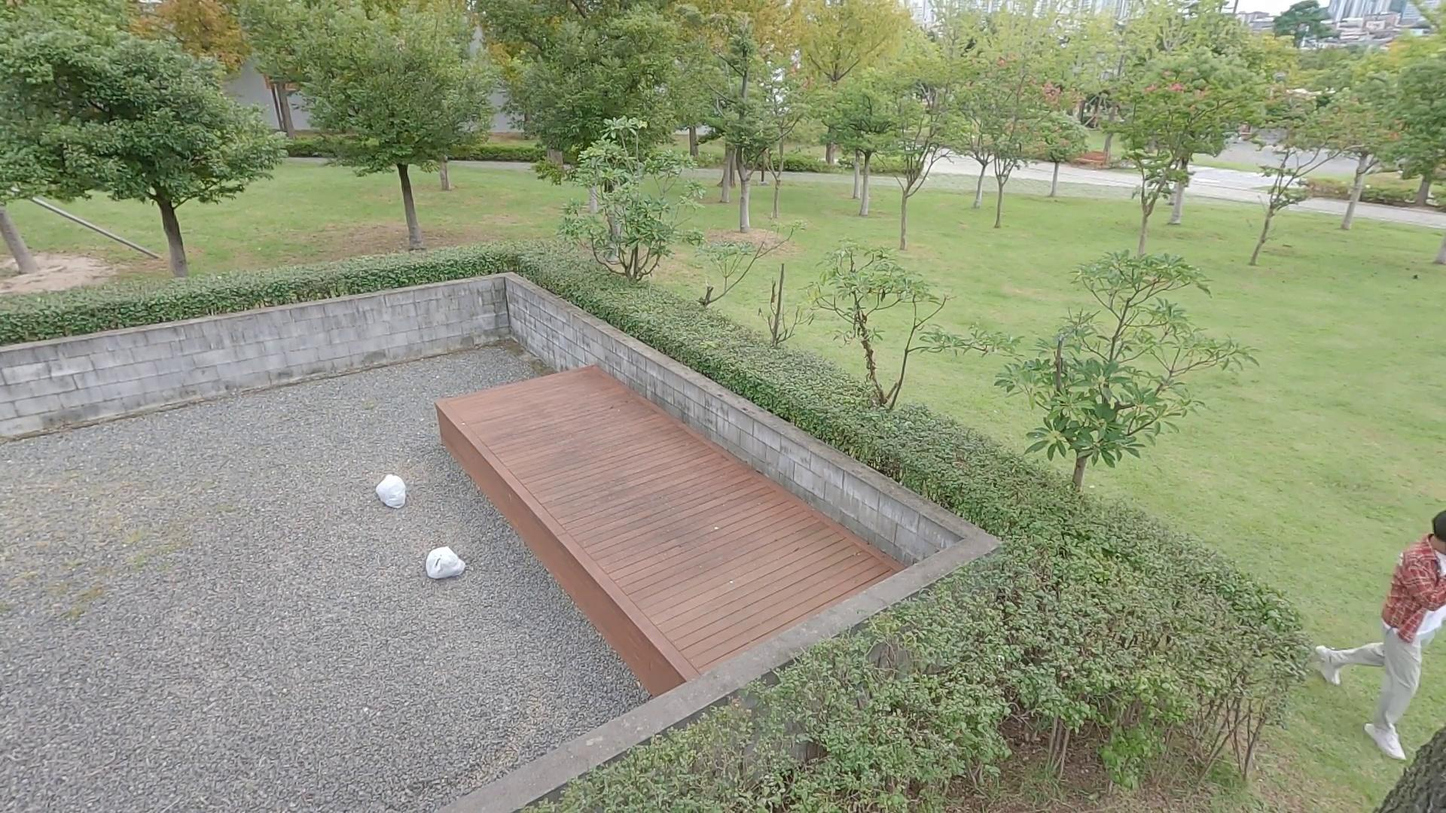person: (1311, 511, 1446, 764)
trash: (420, 546, 468, 583), (378, 471, 410, 510)
